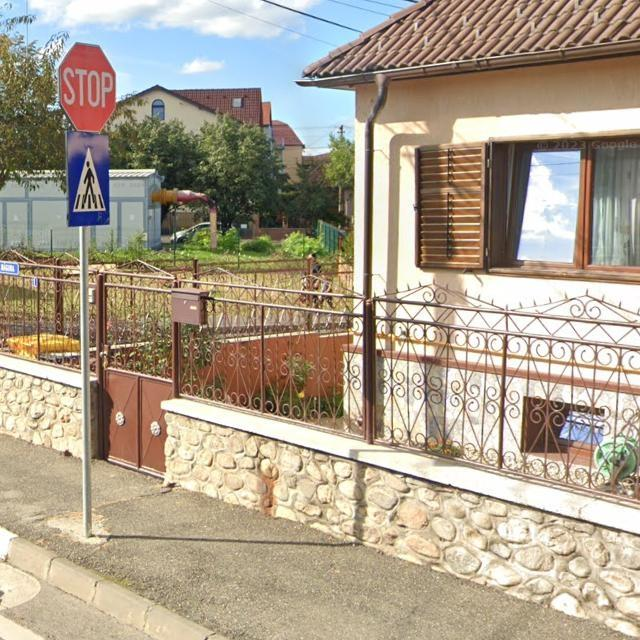info_crosswalk: (65, 129, 111, 226)
prio_stop: (59, 42, 117, 134)
